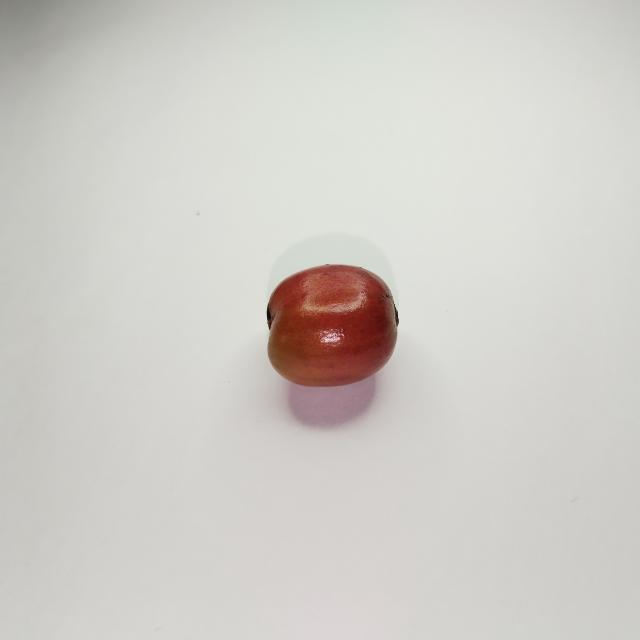Sano: (267, 264, 397, 386)
